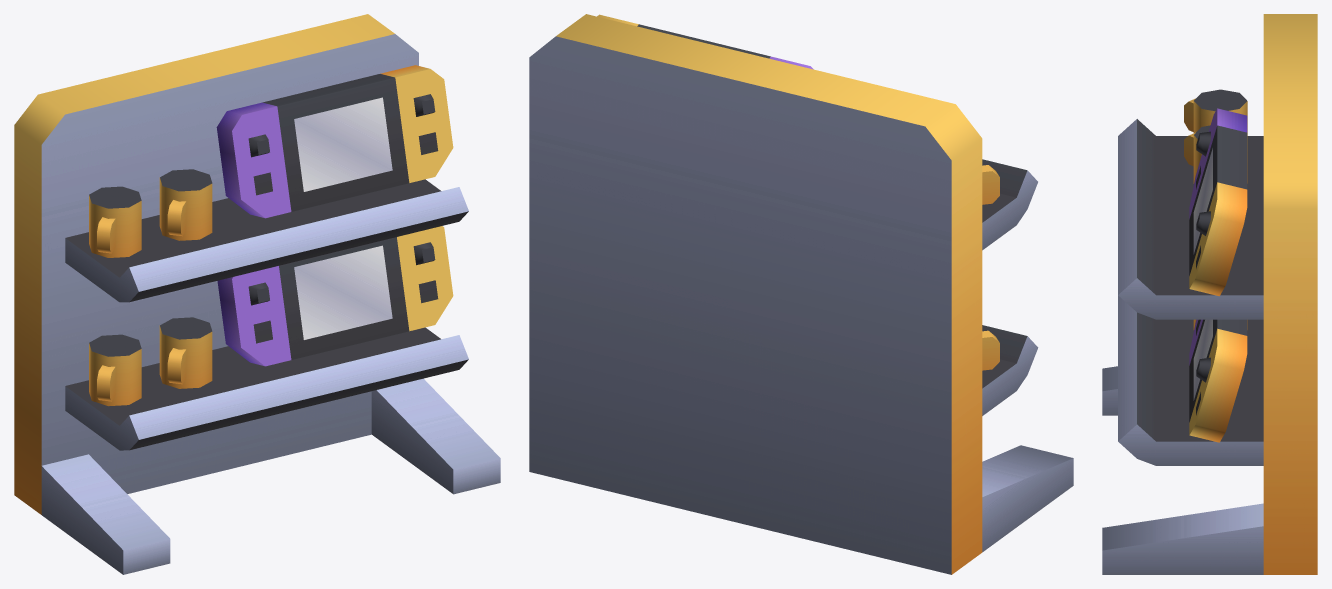
The model's file is prizes.glb.
The picture shows the model from 3 angles, left to right: view 1: azimuth 30°, elevation 25°; view 2: azimuth 150°, elevation 25°; view 3: azimuth 270°, elevation 25°; orthographic projection. The views are drawn at different scales.
Parts seen in each view (by area): view 1: prizes; view 2: prizes; view 3: prizes.
Boxes of the visible parts, x1,y1,x2,y2 form: prizes: [14, 14, 500, 574]; prizes: [529, 14, 1073, 574]; prizes: [1102, 14, 1317, 574].
Bounding box in the file's own units: 0.8 × 0.8 × 0.4.
Materials: 1 (1 with a texture image).
